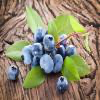Blueberry leaf: (62, 52, 95, 86), (22, 65, 47, 90), (5, 39, 33, 61)
